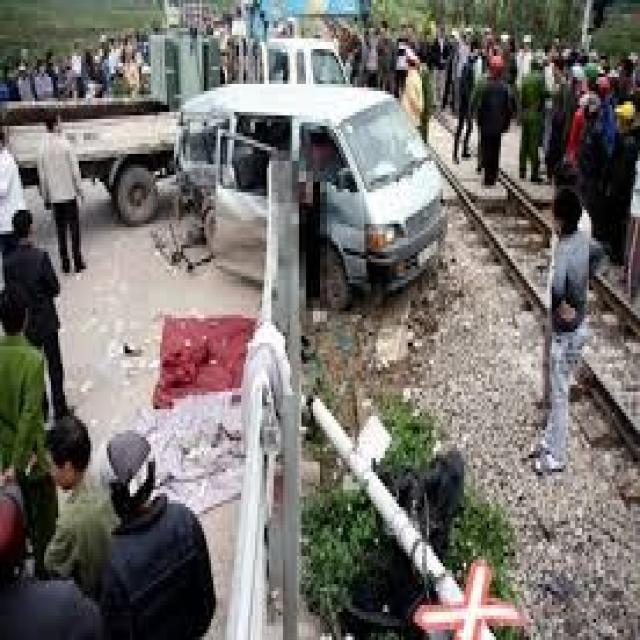accident: (159, 76, 458, 324)
